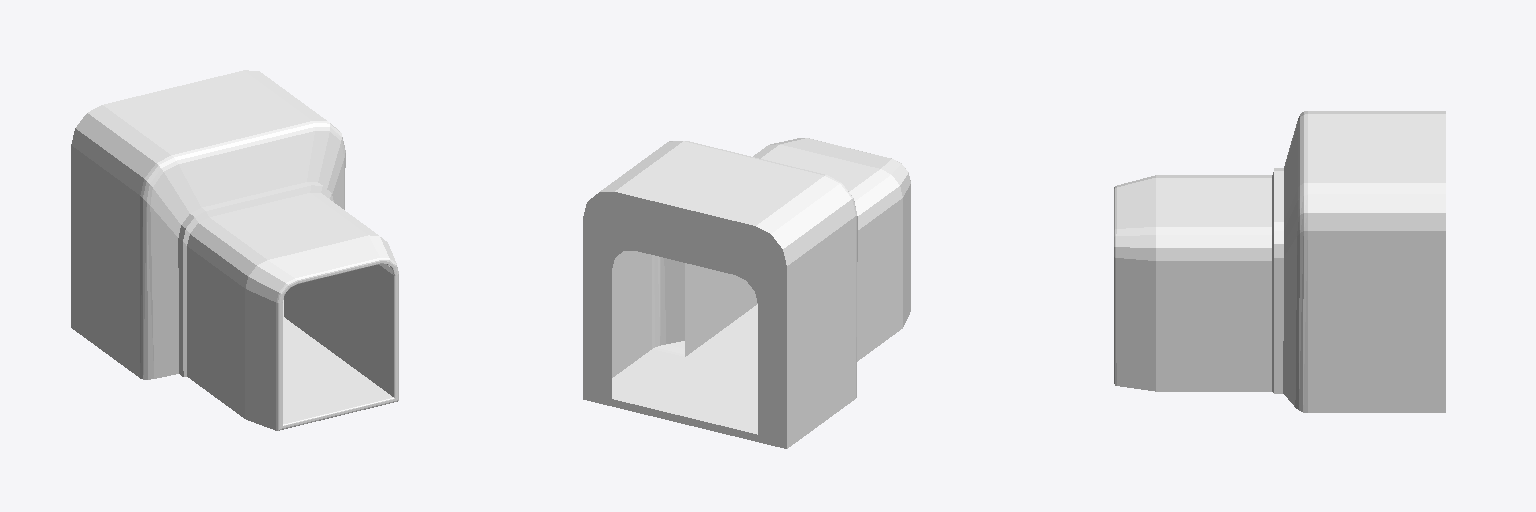
The model's file is mine scaler.obj.
3 renders of one model, left to right at view 1: azimuth 30°, elevation 25°; view 2: azimuth 150°, elevation 25°; view 3: azimuth 270°, elevation 25°, orthographic.
Parts seen in each view (by area): view 1: Cube; view 2: Cube; view 3: Cube.
Part boxes in pixels (x1,y1,x2,y2): Cube: (71, 70, 398, 430); Cube: (583, 138, 910, 448); Cube: (1114, 111, 1445, 412).
Bounding box in the file's own units: 11.71 × 11.83 × 16.51.